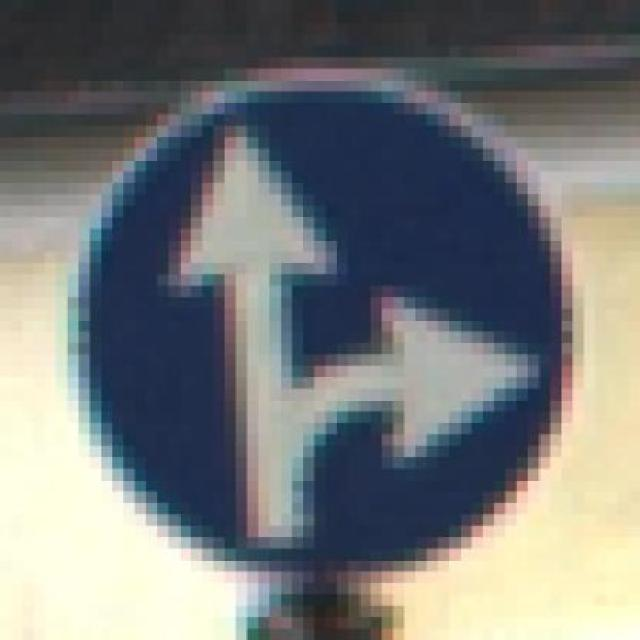Go Straight or Turn Right: (45, 68, 606, 594)
